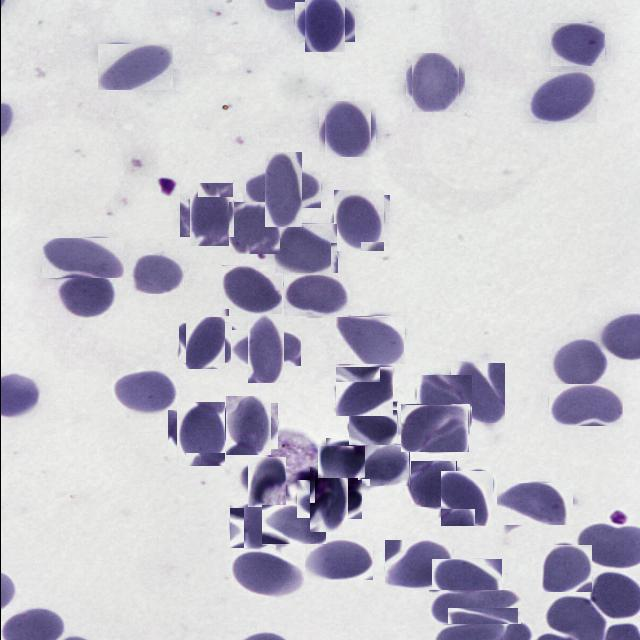red blood cell: (526, 72, 596, 123), (227, 552, 301, 599), (414, 375, 470, 437), (97, 44, 172, 90), (384, 540, 451, 591), (335, 316, 404, 364), (431, 559, 501, 606), (41, 238, 123, 278), (400, 404, 468, 452), (428, 589, 521, 624), (450, 363, 504, 423), (496, 483, 572, 525), (254, 162, 311, 218), (274, 223, 337, 273), (172, 406, 228, 462), (221, 265, 282, 316), (548, 384, 622, 426), (331, 192, 386, 248), (439, 472, 494, 526), (408, 56, 462, 110), (335, 366, 393, 416), (184, 188, 237, 242), (304, 538, 372, 580), (283, 276, 350, 318), (238, 322, 291, 374), (221, 400, 274, 452), (228, 202, 280, 254), (302, 474, 354, 526), (113, 371, 174, 414), (320, 104, 372, 154), (554, 338, 606, 388), (261, 506, 325, 546), (540, 543, 590, 593), (299, 0, 350, 47), (550, 23, 604, 66), (181, 319, 228, 366), (59, 274, 110, 317), (131, 253, 184, 294), (348, 402, 397, 446), (410, 461, 456, 507), (229, 504, 276, 548), (361, 444, 409, 486), (244, 460, 288, 504), (321, 442, 361, 482)
